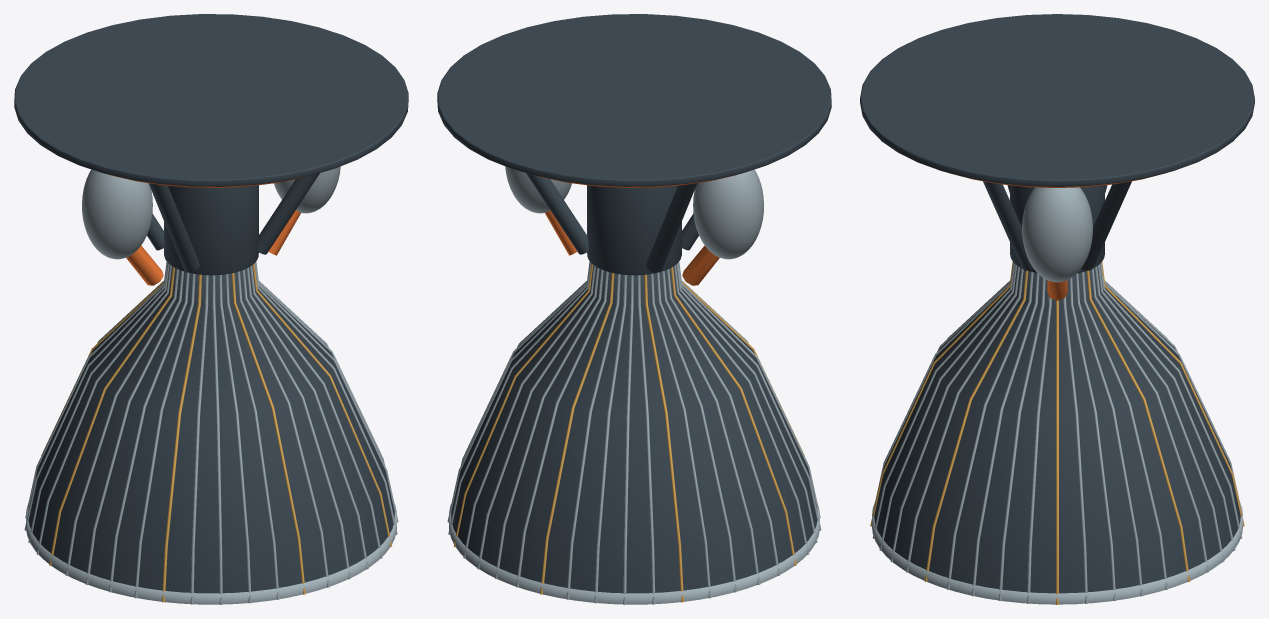
File: engineVacLarge.glb
3 renders of one model, left to right at view 1: azimuth 30°, elevation 25°; view 2: azimuth 150°, elevation 25°; view 3: azimuth 270°, elevation 25°, orthographic.
Parts seen in each view (by area): view 1: GimbalNozzle, EngineMount; view 2: GimbalNozzle, EngineMount; view 3: GimbalNozzle, EngineMount.
Part boxes in pixels (box(x1,y1,x2,y2)): GimbalNozzle: box(24, 261, 398, 604); EngineMount: box(14, 14, 408, 285); GimbalNozzle: box(447, 261, 821, 604); EngineMount: box(437, 14, 831, 285); GimbalNozzle: box(870, 262, 1244, 604); EngineMount: box(860, 14, 1254, 300).
Bounding box in the file's own units: 2.5 × 3 × 2.5.
